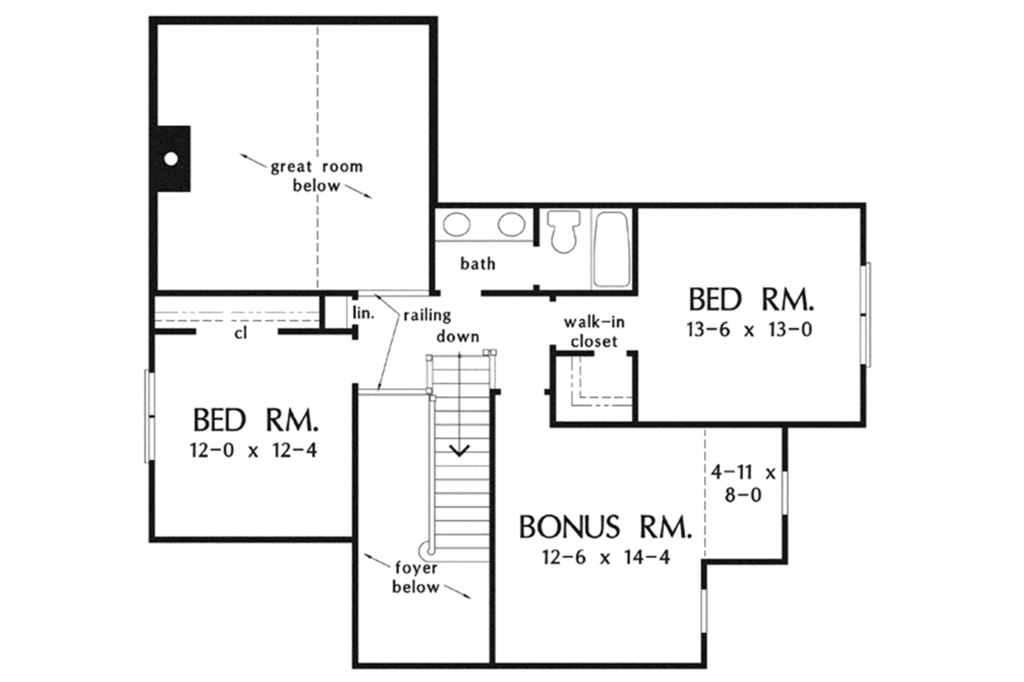large_sink: (541, 201, 583, 258)
small_sink: (432, 206, 538, 245)
stairs: (420, 349, 500, 564)
tub: (584, 199, 630, 289)
window: (136, 370, 161, 461), (855, 264, 875, 369), (778, 469, 795, 520), (697, 587, 712, 638)
